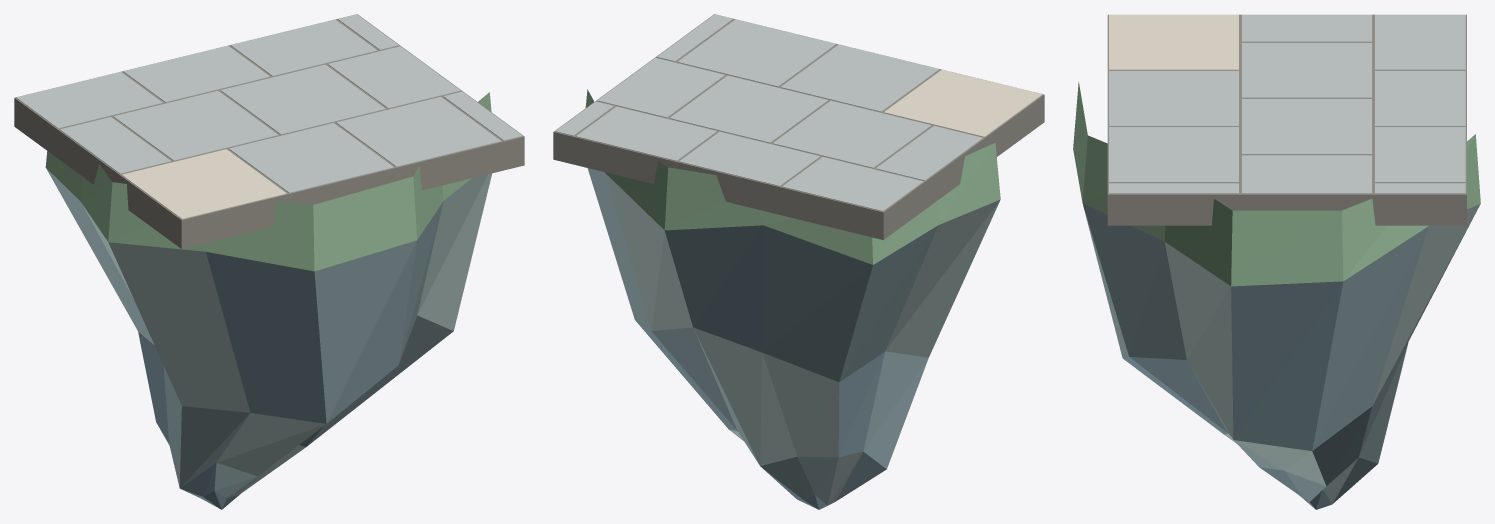
File: FloatingIsland15.glb
3 renders of one model, left to right at view 1: azimuth 30°, elevation 25°; view 2: azimuth 150°, elevation 25°; view 3: azimuth 270°, elevation 25°, orthographic. The views are drawn at different scales.
Visible parts, largest first — view 1: FloatingIsland15; view 2: FloatingIsland15; view 3: FloatingIsland15.
Boxes of the visible parts, x1,y1,x2,y2 form: FloatingIsland15: (14, 14, 524, 509); FloatingIsland15: (553, 14, 1044, 509); FloatingIsland15: (1073, 14, 1480, 509).
Bounding box in the file's own units: 3.78 × 3.69 × 3.22.
